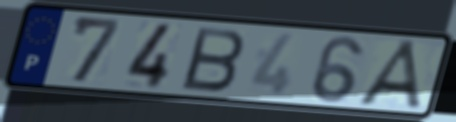4: (122, 20, 173, 91), (246, 31, 298, 99)
6: (307, 33, 366, 106)
7: (70, 14, 126, 85)
A: (353, 38, 427, 113)
B: (179, 25, 248, 94)
